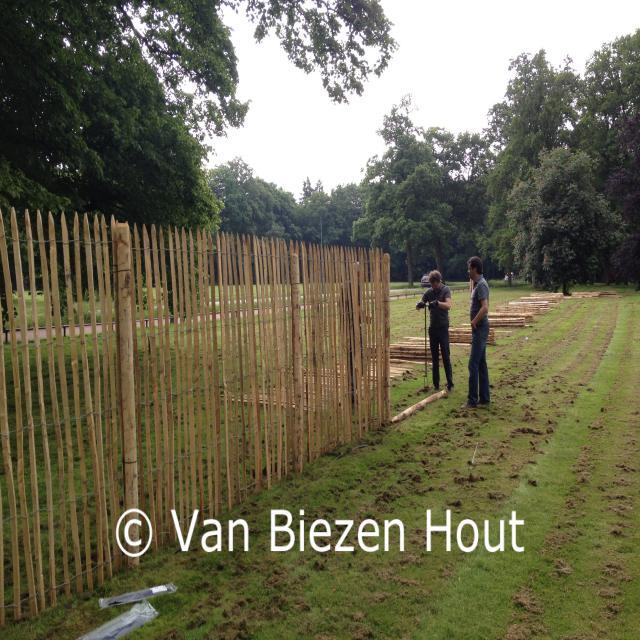fence line: (7, 205, 394, 506)
